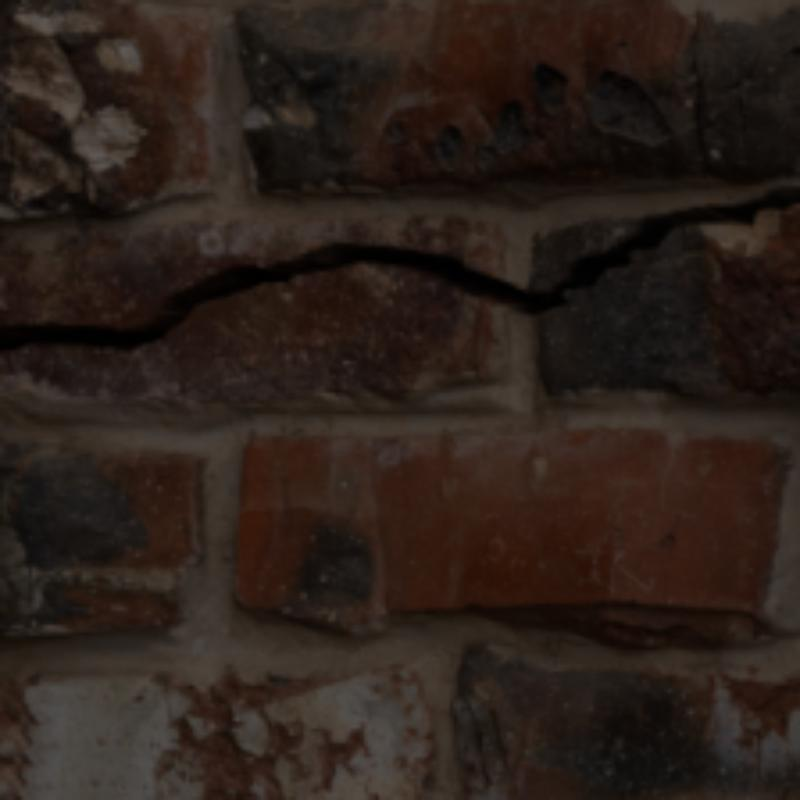pothole: (0, 186, 796, 350)
